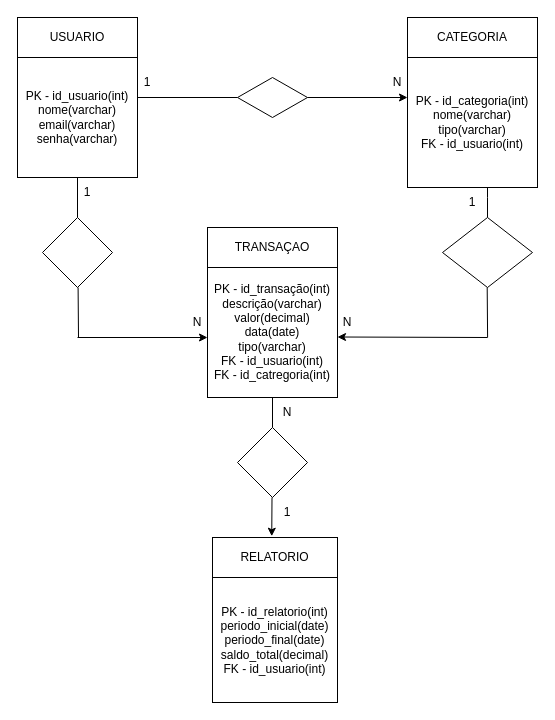
The diagram is 555 pixels wide and 720 high, and some of its shapes have lost their labels. The box of each missing label's shape, as (x1, y1, x2, y2) in pixels:
CLASSIFICA: (442, 216, 532, 288)
GERA: (236, 426, 308, 498)
POSSUI: (236, 76, 308, 118)
REGISTRA: (42, 216, 112, 288)
